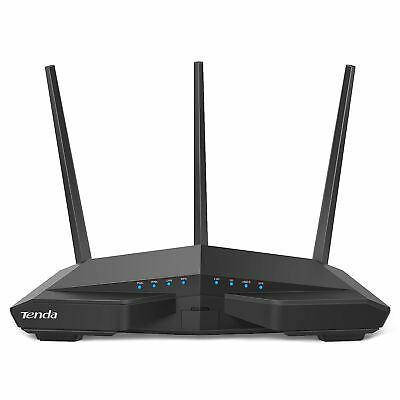router: (9, 60, 390, 342)
